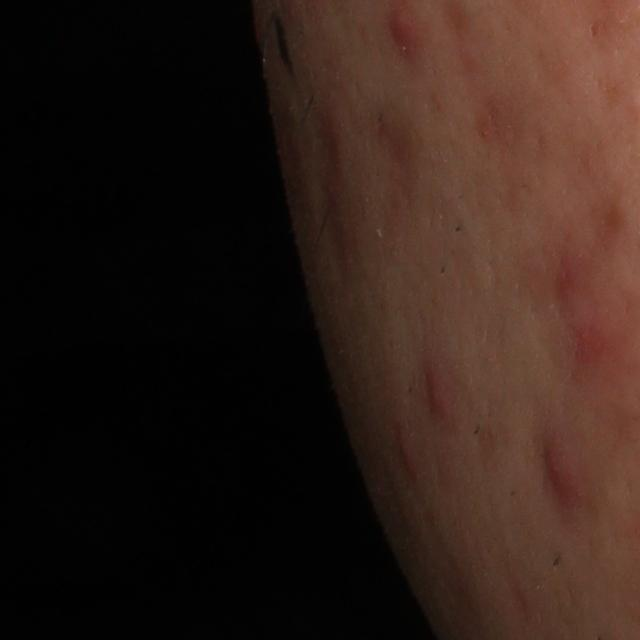nevus: (270, 14, 302, 85)
papule: (544, 429, 582, 499), (394, 428, 421, 473)
